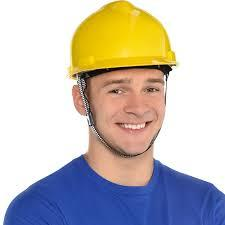safe person: (51, 1, 179, 177)
